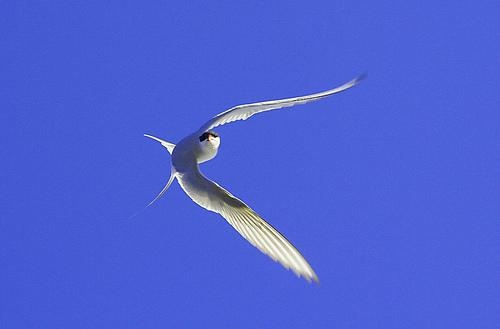bird: (143, 72, 364, 287)
